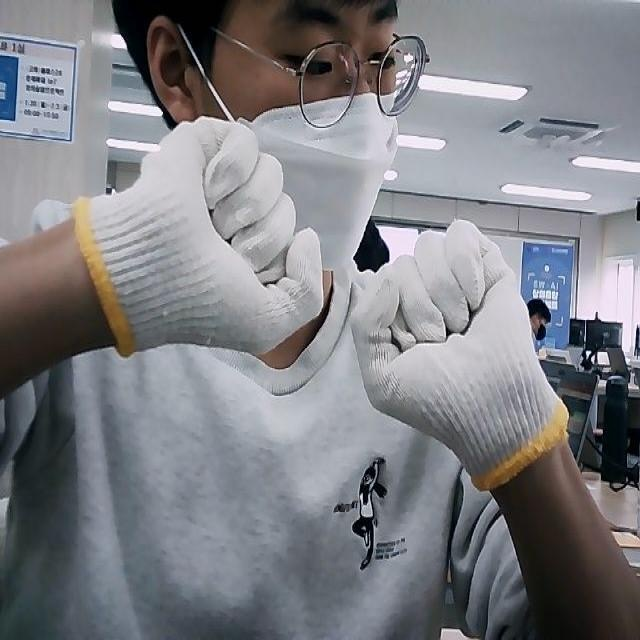Guantes: (74, 116, 325, 356), (351, 221, 570, 479)
